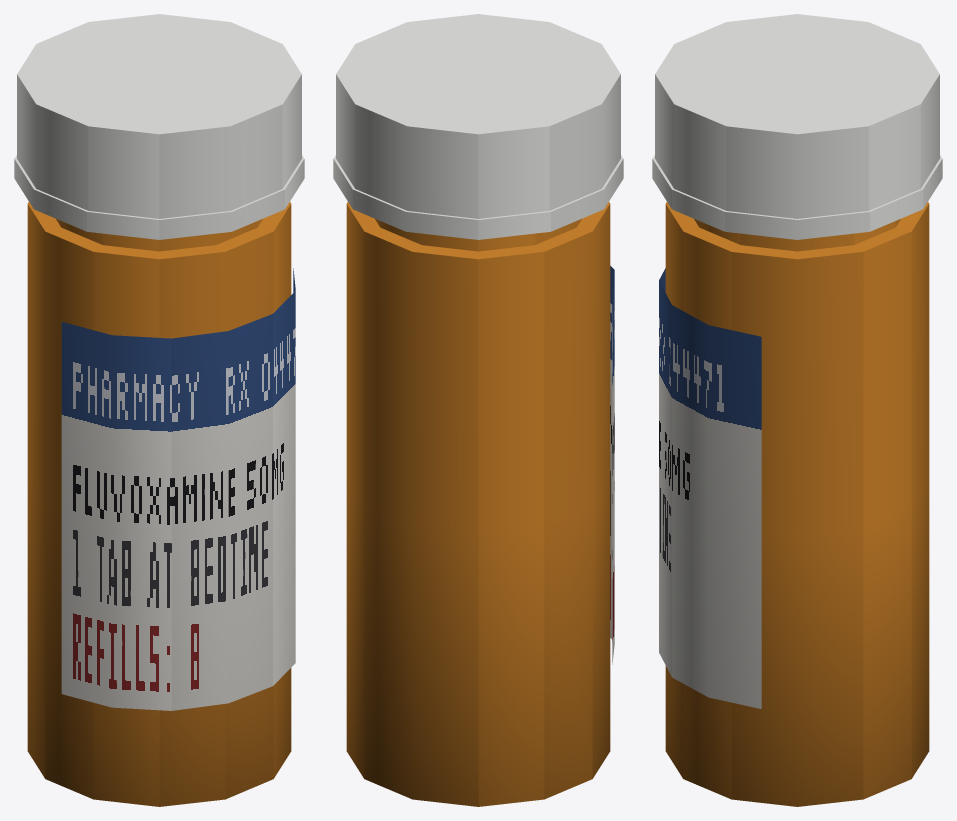
Rendered from pill_bottle_tall.glb.
3 renders of one model, left to right at view 1: azimuth 30°, elevation 25°; view 2: azimuth 150°, elevation 25°; view 3: azimuth 270°, elevation 25°, orthographic.
Parts seen in each view (by area): view 1: body, panels; view 2: body, panels; view 3: body, panels.
Part boxes in pixels (<box>): body: <box>14,14,304,806</box>; panels: <box>61,268,295,710</box>; body: <box>333,14,623,806</box>; panels: <box>610,266,614,664</box>; body: <box>652,14,942,806</box>; panels: <box>659,268,761,708</box>.
Size of what is drawn, in the model's own units: 0.0528 by 0.136 by 0.0528.
Materials: 3 (1 with a texture image).
